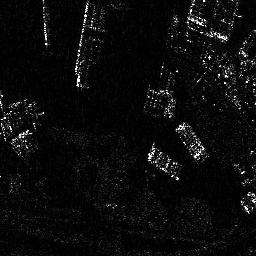ship: (166, 13, 178, 52)
